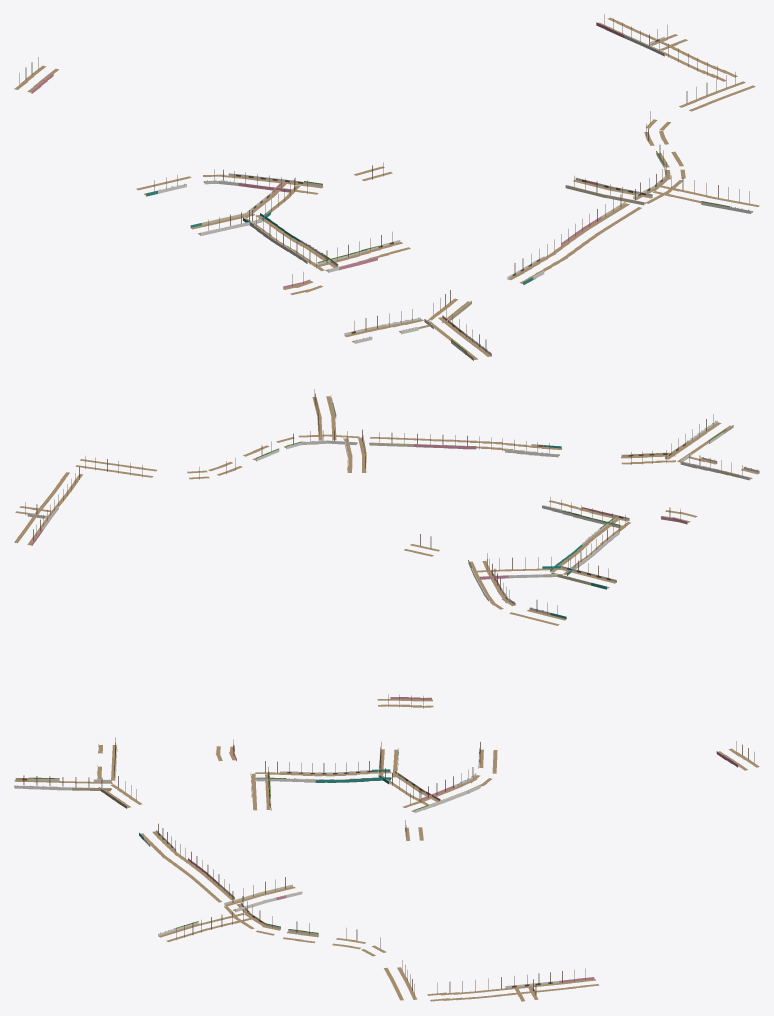
File: noord_res_-13_-12.glb
3 renders of one model, top to bottom at view 1: azimuth 30°, elevation 25°; view 2: azimuth 150°, elevation 25°; view 3: azimuth 270°, elevation 25°, orthographic. The views are drawn at different scales.
Visible parts, largest first — view 1: noord_res_-13_-12_lod0; view 2: noord_res_-13_-12_lod0; view 3: noord_res_-13_-12_lod0.
Boxes of the visible parts, <box> form: noord_res_-13_-12_lod0: <box>14,14,759,360</box>; noord_res_-13_-12_lod0: <box>14,389,759,708</box>; noord_res_-13_-12_lod0: <box>14,737,759,1001</box>.
Size of what is drawn, in the model's own units: 361 by 13.59 by 449.
